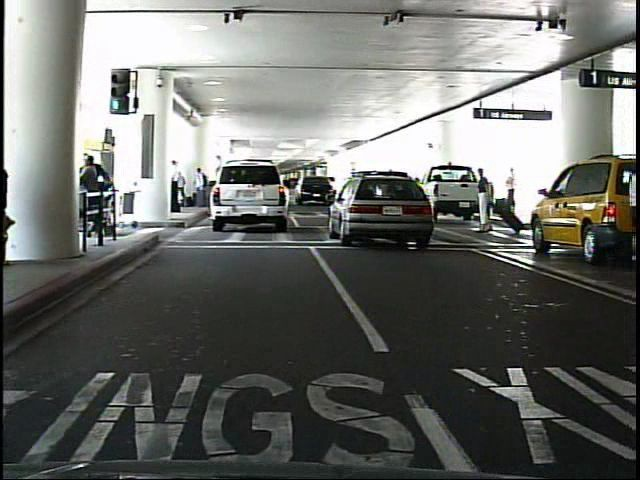person: (476, 166, 497, 234), (507, 166, 521, 217), (174, 157, 185, 217), (196, 167, 211, 210), (2, 148, 3, 266)
